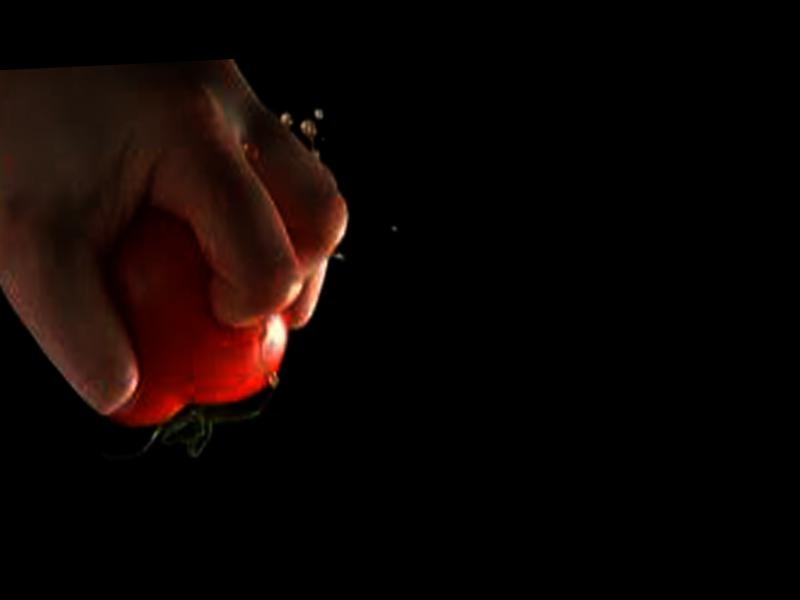Tomato: (97, 202, 291, 429)
